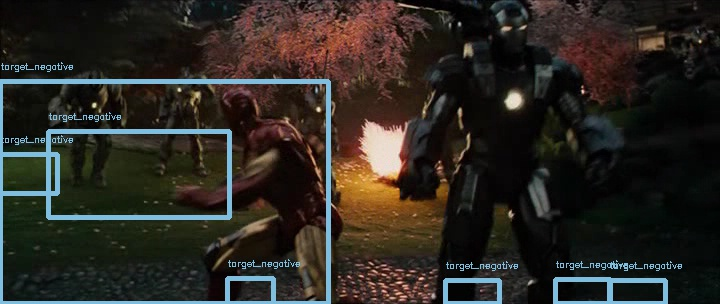person: (216, 85, 259, 132), (215, 85, 258, 132), (217, 85, 260, 132), (216, 84, 259, 131), (216, 86, 259, 133)
target_negative: (416, 115, 669, 209), (90, 199, 344, 266), (127, 40, 221, 190), (488, 160, 512, 246), (485, 277, 546, 298)
